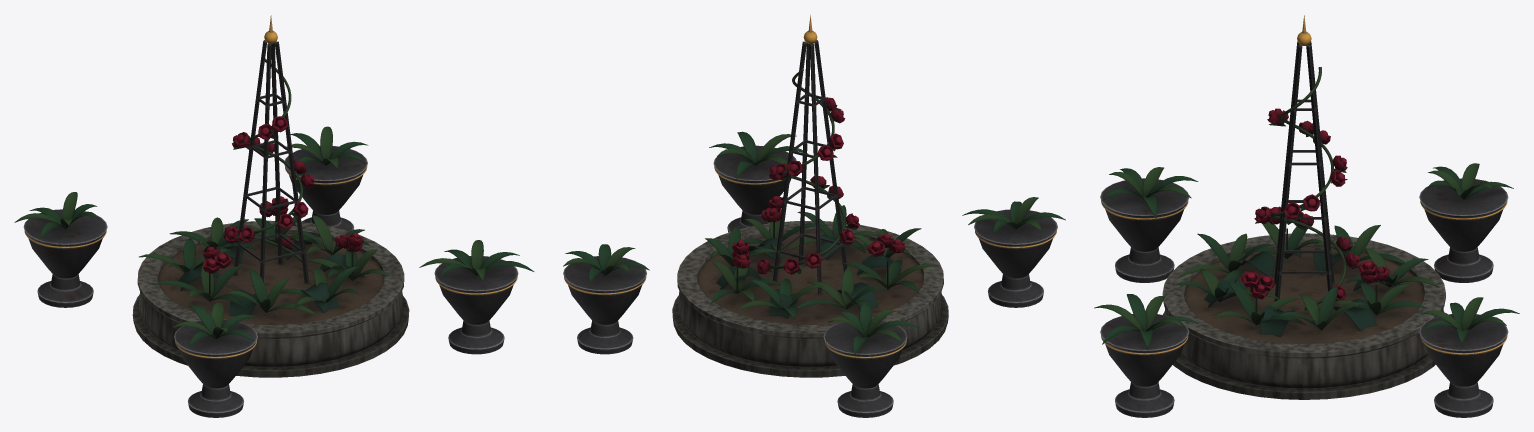
File: ConservatoryBeds.fbx
3 views of the same model, side by side, from view 1: azimuth 30°, elevation 25°; view 2: azimuth 150°, elevation 25°; view 3: azimuth 270°, elevation 25° (orthographic). The views are drawn at different scales.
Parts seen in each view (by area): view 1: ConservatoryBeds_Main, ConservatoryBeds_Plants; view 2: ConservatoryBeds_Main, ConservatoryBeds_Plants; view 3: ConservatoryBeds_Main, ConservatoryBeds_Plants.
Boxes of the visible parts, x1,y1,x2,y2 form: ConservatoryBeds_Main: [23, 15, 518, 417]; ConservatoryBeds_Plants: [14, 58, 534, 347]; ConservatoryBeds_Main: [563, 15, 1057, 417]; ConservatoryBeds_Plants: [563, 68, 1065, 355]; ConservatoryBeds_Main: [1100, 15, 1508, 417]; ConservatoryBeds_Plants: [1094, 67, 1519, 349].
Bounding box in the file's own units: 816 × 682 × 812.
